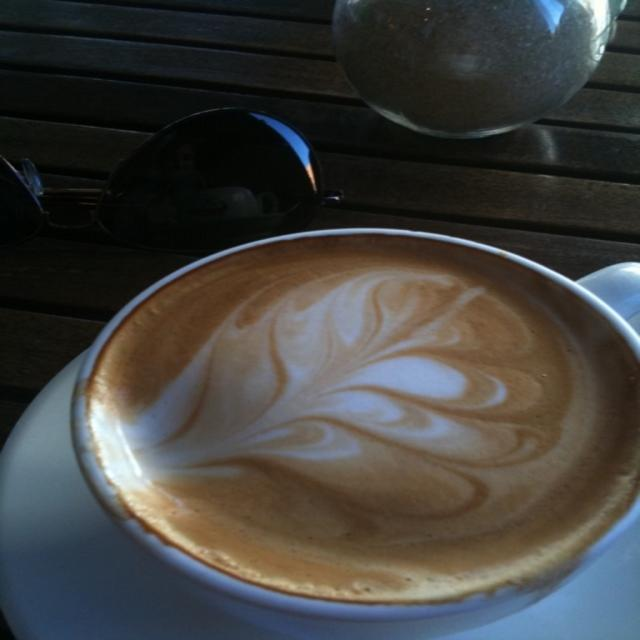Coffee: (87, 232, 638, 603)
